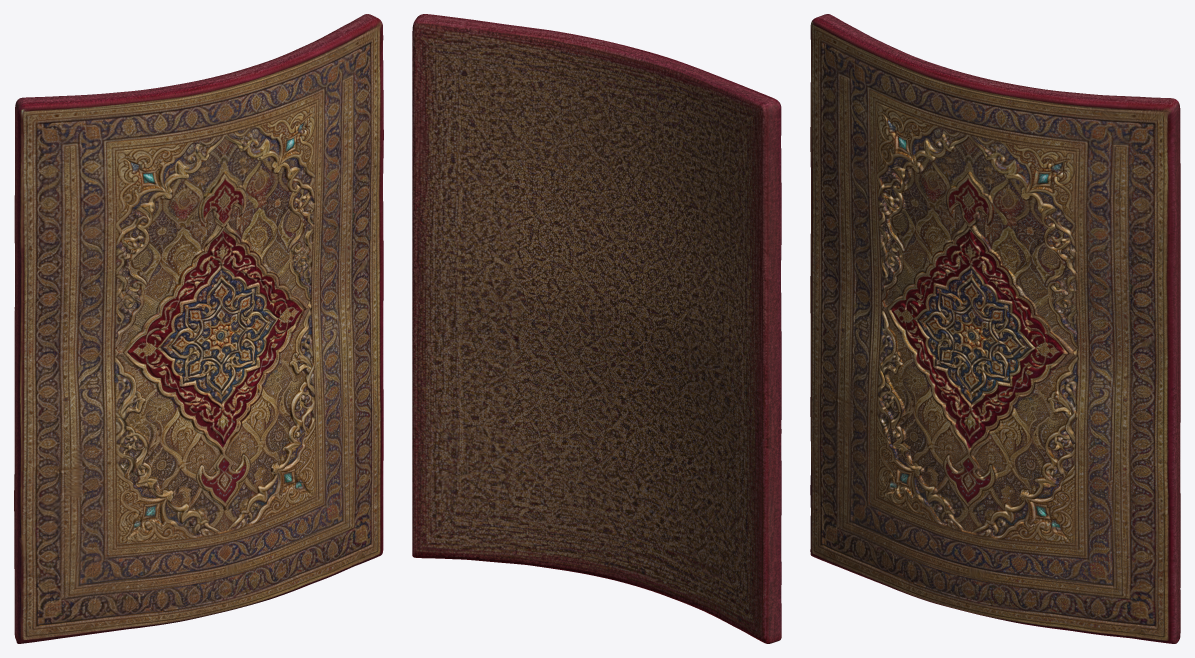
The model's file is tripo_convert_048b592f-ab04-44f8-a158-0a7d07d6835a.fbx.
The picture shows the model from 3 angles, left to right: view 1: azimuth 30°, elevation 25°; view 2: azimuth 150°, elevation 25°; view 3: azimuth 330°, elevation 25°; orthographic projection.
Parts seen in each view (by area): view 1: tripo_node_048b592f; view 2: tripo_node_048b592f; view 3: tripo_node_048b592f.
Boxes of the visible parts, x1,y1,x2,y2 form: tripo_node_048b592f: (14, 14, 383, 643); tripo_node_048b592f: (412, 14, 781, 643); tripo_node_048b592f: (810, 14, 1180, 643).
Size of the model in its own units: 0.7086 by 1 by 0.1174.
